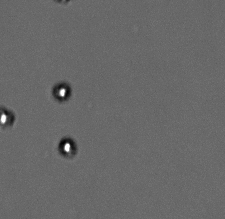Living Cell: (57, 135, 77, 158), (51, 81, 72, 101), (1, 105, 16, 130)
